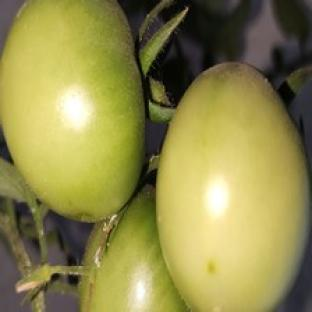Tomato: (156, 63, 310, 311), (80, 187, 186, 311)
